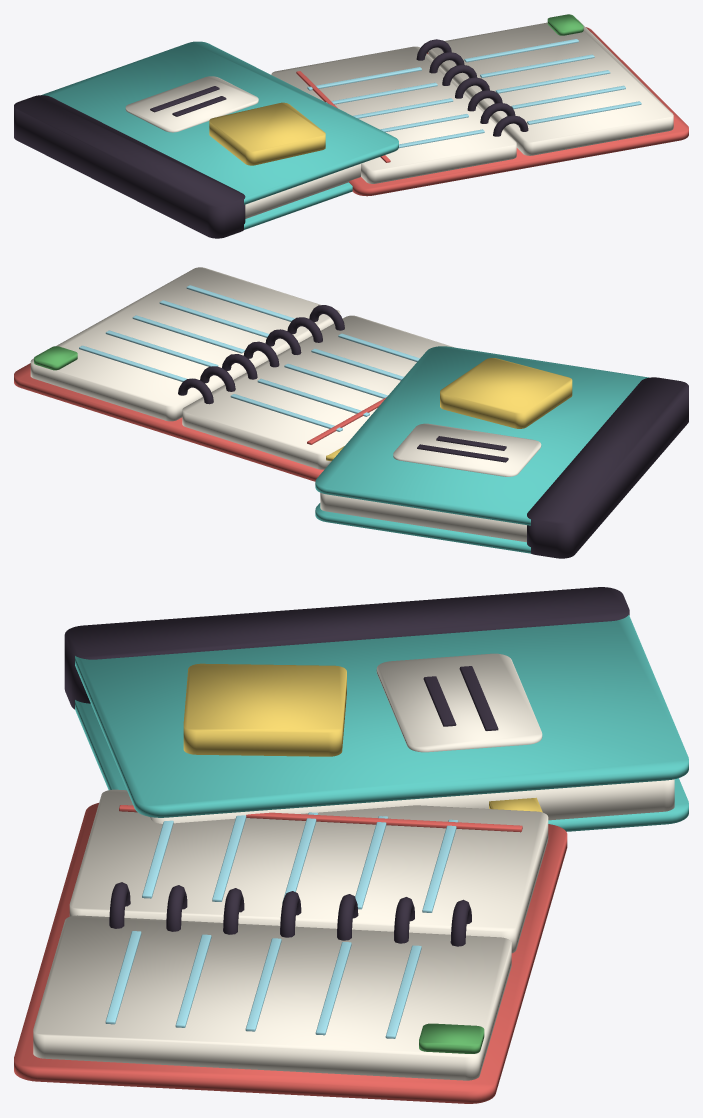
File: notebooks.glb
The picture shows the model from 3 angles, top to bottom: view 1: azimuth 30°, elevation 25°; view 2: azimuth 150°, elevation 25°; view 3: azimuth 270°, elevation 25°; orthographic projection. The views are drawn at different scales.
Visible parts, largest first — view 1: ClutterNotebooks_Pages, ClutterNotebooks_TurquoiseCover, ClutterNotebooks_SpineAndWire, ClutterNotebooks_ButterNotes, ClutterNotebooks_CoralCover, ClutterNotebooks_RuledLines, ClutterNotebooks_LeafBookmark; view 2: ClutterNotebooks_Pages, ClutterNotebooks_TurquoiseCover, ClutterNotebooks_SpineAndWire, ClutterNotebooks_ButterNotes, ClutterNotebooks_RuledLines, ClutterNotebooks_CoralCover, ClutterNotebooks_LeafBookmark; view 3: ClutterNotebooks_Pages, ClutterNotebooks_TurquoiseCover, ClutterNotebooks_SpineAndWire, ClutterNotebooks_CoralCover, ClutterNotebooks_ButterNotes, ClutterNotebooks_RuledLines, ClutterNotebooks_LeafBookmark.
Part boxes in pixels (x1,y1,x2,y2): ClutterNotebooks_Pages: (125,19,673,218); ClutterNotebooks_TurquoiseCover: (41,41,398,229); ClutterNotebooks_SpineAndWire: (14,39,528,238); ClutterNotebooks_ButterNotes: (209,74,325,165); ClutterNotebooks_CoralCover: (296,27,688,196); ClutterNotebooks_RuledLines: (307,39,641,148); ClutterNotebooks_LeafBookmark: (547,14,583,35); ClutterNotebooks_Pages: (30,267,541,542); ClutterNotebooks_TurquoiseCover: (315,346,648,553); ClutterNotebooks_SpineAndWire: (178,305,688,558); ClutterNotebooks_ButterNotes: (326,358,572,461); ClutterNotebooks_RuledLines: (79,285,419,431); ClutterNotebooks_CoralCover: (14,363,386,481); ClutterNotebooks_LeafBookmark: (34,346,77,370); ClutterNotebooks_Pages: (33,653,674,1080); ClutterNotebooks_TurquoiseCover: (75,615,688,831); ClutterNotebooks_SpineAndWire: (64,587,629,946); ClutterNotebooks_CoralCover: (14,803,567,1103); ClutterNotebooks_ButterNotes: (183,663,542,812); ClutterNotebooks_RuledLines: (105,812,458,1038); ClutterNotebooks_LeafBookmark: (419,1023,484,1053).
Size of the model in its own units: 0.4956 by 0.039 by 0.306.
